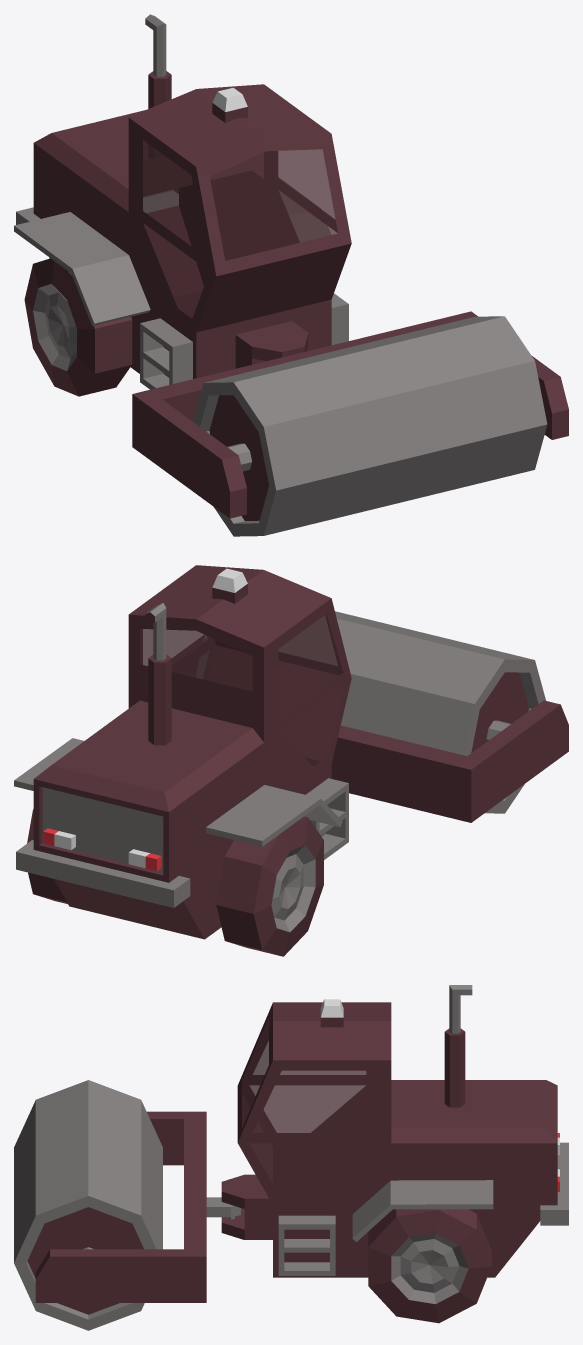
Rendered from road-roller.fbx.
The picture shows the model from 3 angles, top to bottom: view 1: azimuth 30°, elevation 25°; view 2: azimuth 150°, elevation 25°; view 3: azimuth 270°, elevation 25°; orthographic projection. The views are drawn at different scales.
Parts seen in each view (by area): view 1: road-roller-base, road-roller-cylinder, road-roller-wheel-frame_F, road-roller-wheel_BR; view 2: road-roller-base, road-roller-cylinder, road-roller-wheel-frame_F, road-roller-wheel_BR, road-roller-wheel_BL; view 3: road-roller-base, road-roller-cylinder, road-roller-wheel-frame_F, road-roller-wheel_BL.
Part boxes in pixels (<box>): road-roller-base: <box>14,14,351,389</box>; road-roller-cylinder: <box>193,316,547,536</box>; road-roller-wheel-frame_F: <box>132,311,568,518</box>; road-roller-wheel_BR: <box>24,258,132,396</box>; road-roller-base: <box>14,565,351,939</box>; road-roller-cylinder: <box>196,611,545,813</box>; road-roller-wheel-frame_F: <box>172,635,568,822</box>; road-roller-wheel_BR: <box>216,816,323,956</box>; road-roller-wheel_BL: <box>27,809,67,903</box>; road-roller-base: <box>221,985,568,1277</box>; road-roller-cylinder: <box>14,1080,162,1330</box>; road-roller-wheel-frame_F: <box>35,1111,240,1302</box>; road-roller-wheel_BL: <box>368,1209,491,1323</box>.
Size of the model in its own units: 3 by 2.8 by 4.86.
